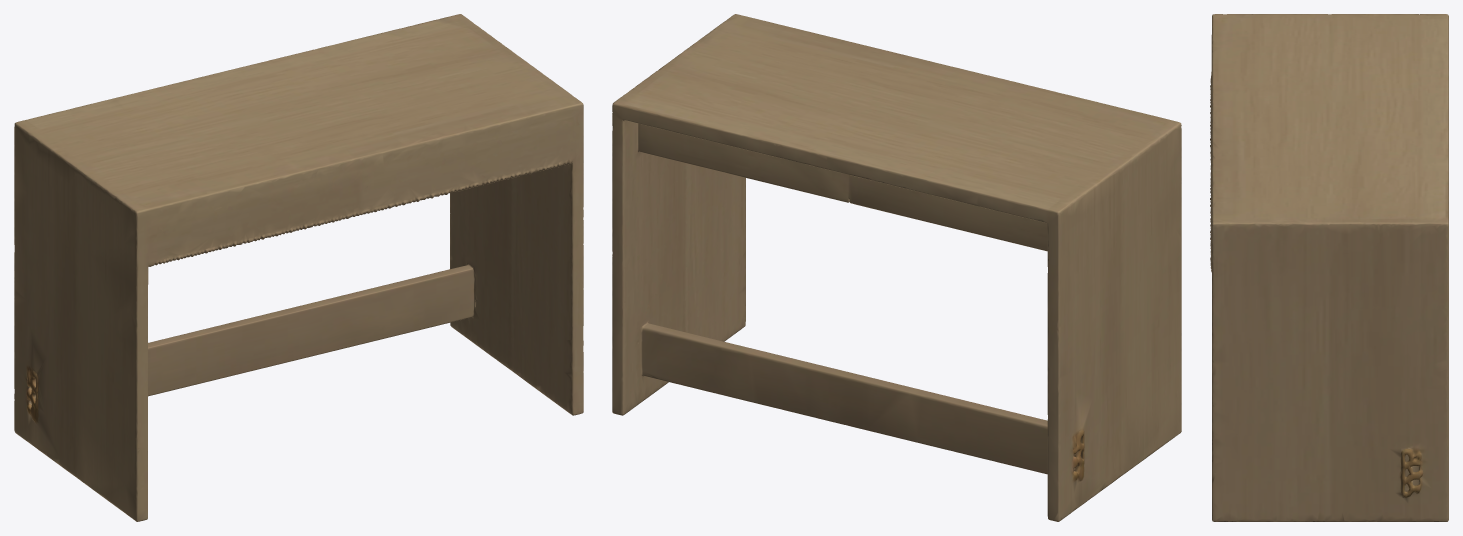
File: oak-two-drawer-desk.glb
The picture shows the model from 3 angles, left to right: view 1: azimuth 30°, elevation 25°; view 2: azimuth 150°, elevation 25°; view 3: azimuth 270°, elevation 25°; orthographic projection. The views are drawn at different scales.
Visible parts, largest first — view 1: world; view 2: world; view 3: world.
Part boxes in pixels (left/top/right/bottom): world: left=14, top=14, right=583, bottom=521; world: left=612, top=14, right=1181, bottom=521; world: left=1210, top=14, right=1448, bottom=521.
Bounding box in the file's own units: 1 × 0.6592 × 0.4767.
1 material, 1 textured.
